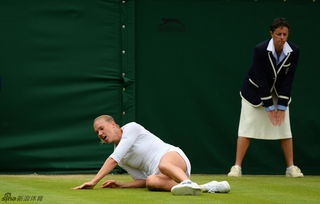falling: (69, 110, 227, 195)
